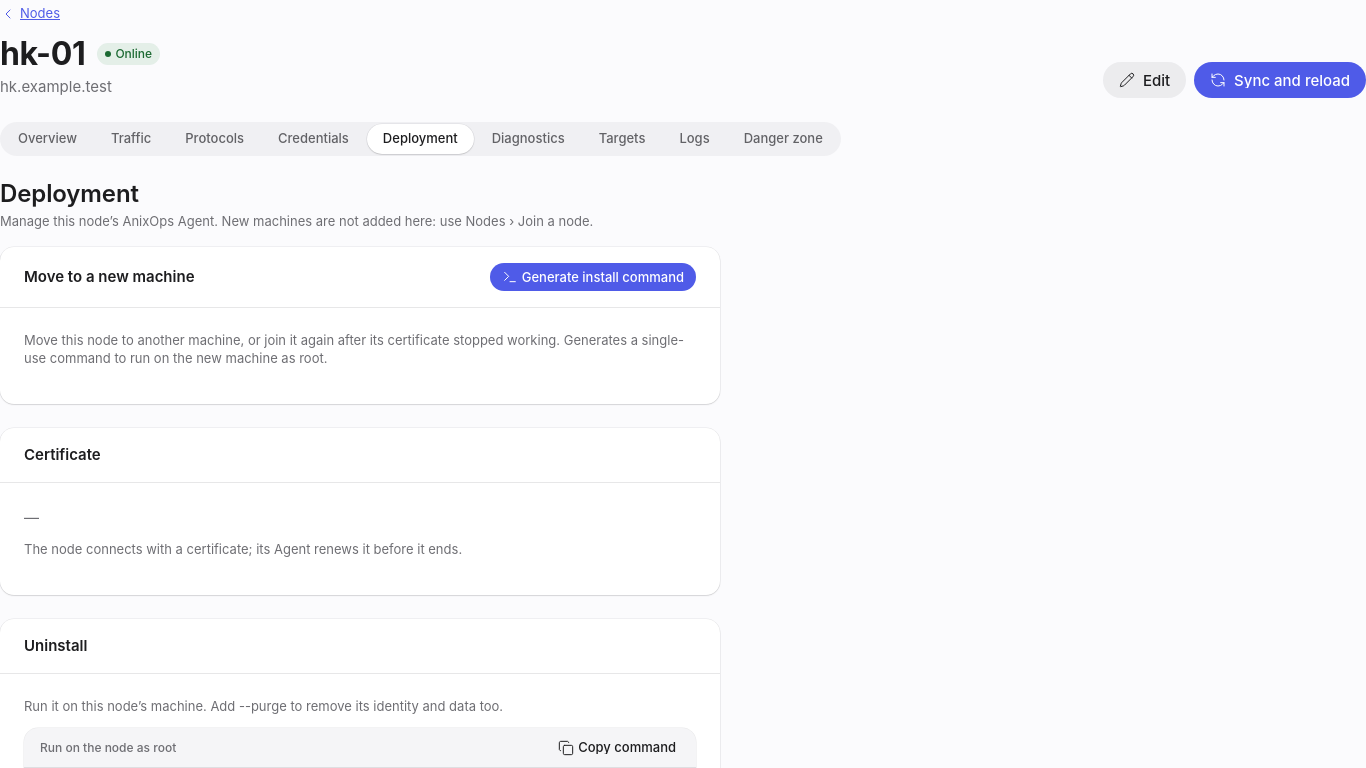
NodeDetail › issues an enrollment command bound to this node from Move to a new machine
Click the button "Generate install command" at coordinates (593, 277), box [490,263,696,291]
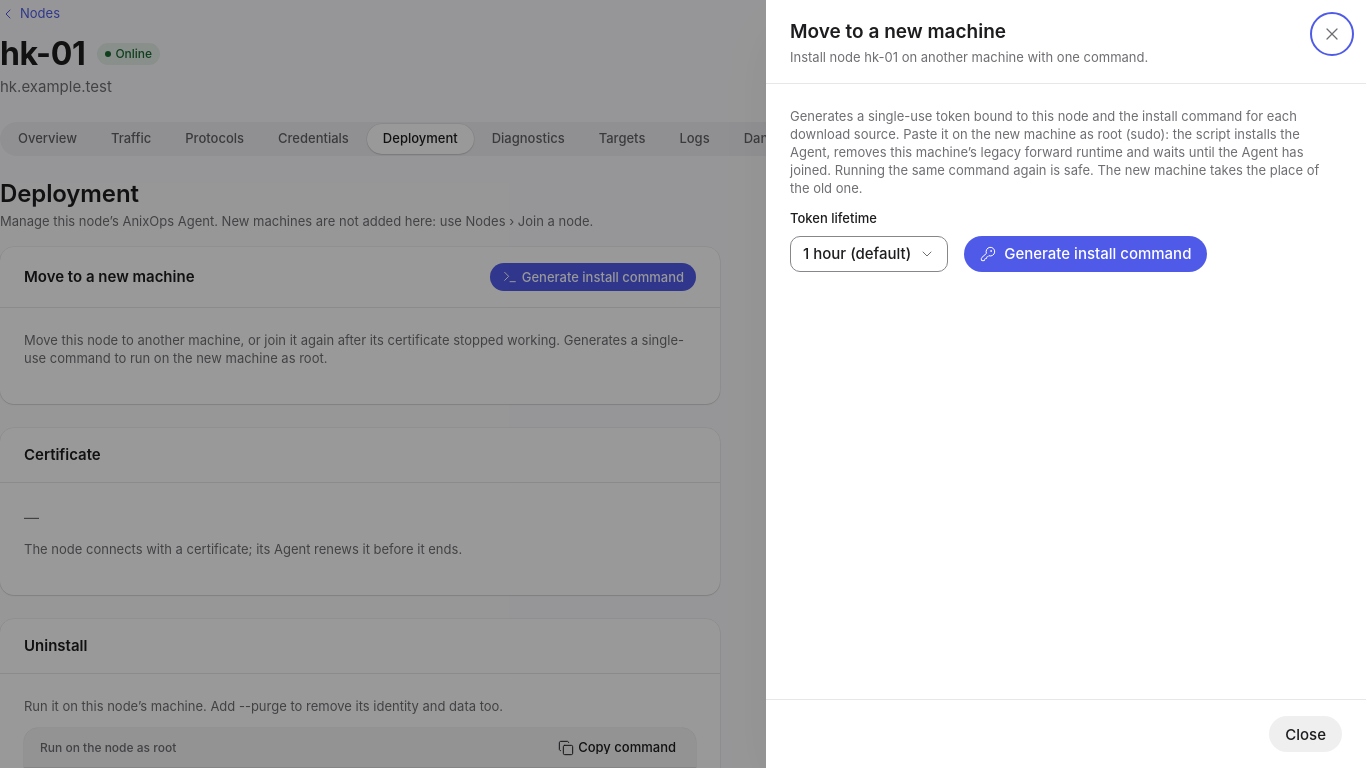
Click the button "Generate install command" at coordinates (1086, 254), box [964,236,1207,272]
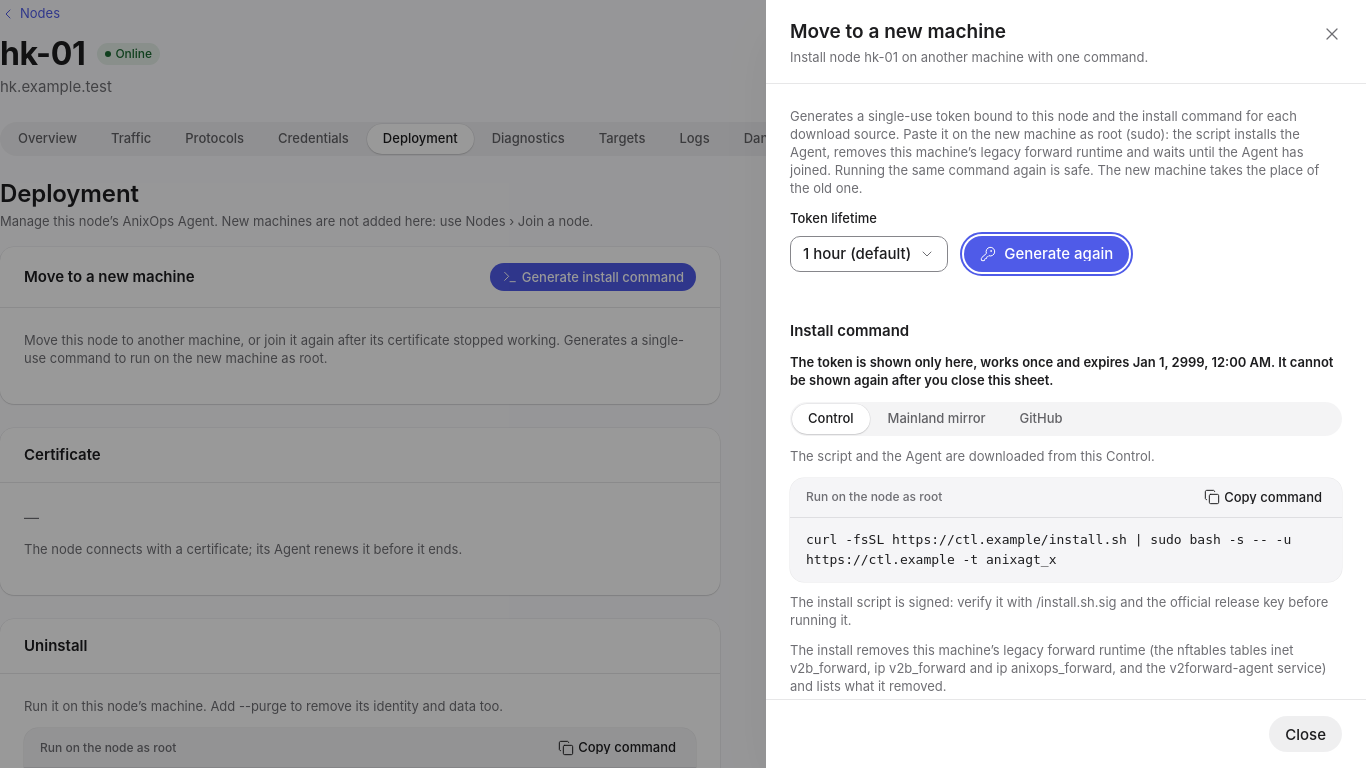
Expected: the text "anixagt_x" is shown, [806,532,1299,567]
